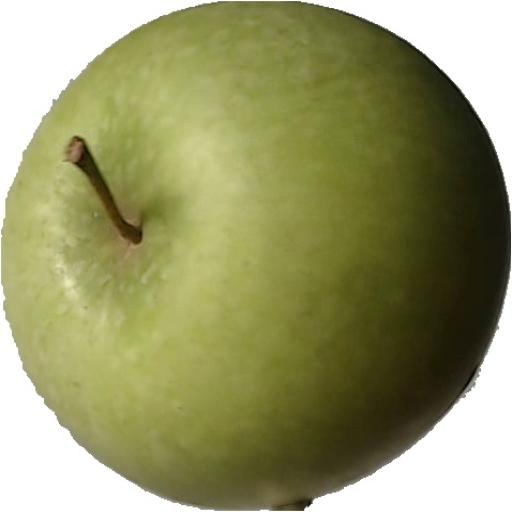apple-unripe: (0, 0, 504, 481)
